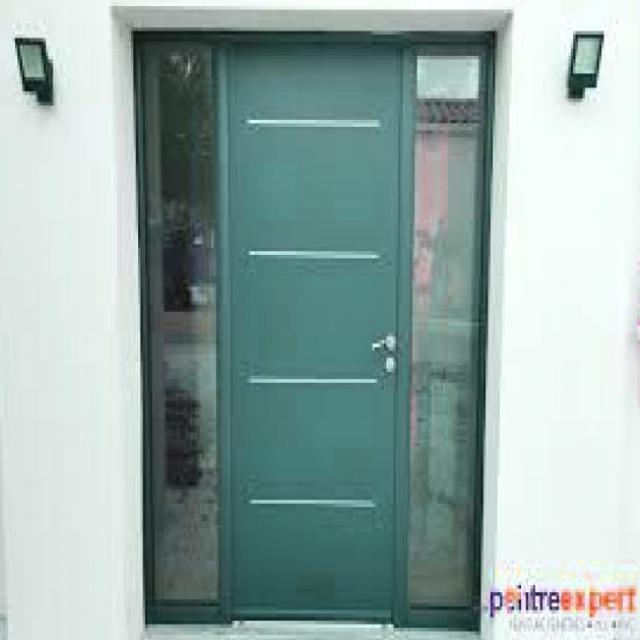door: (216, 38, 409, 624)
